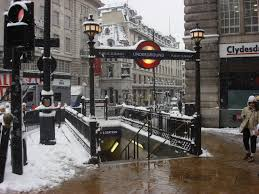London Underground: (133, 40, 163, 72)
